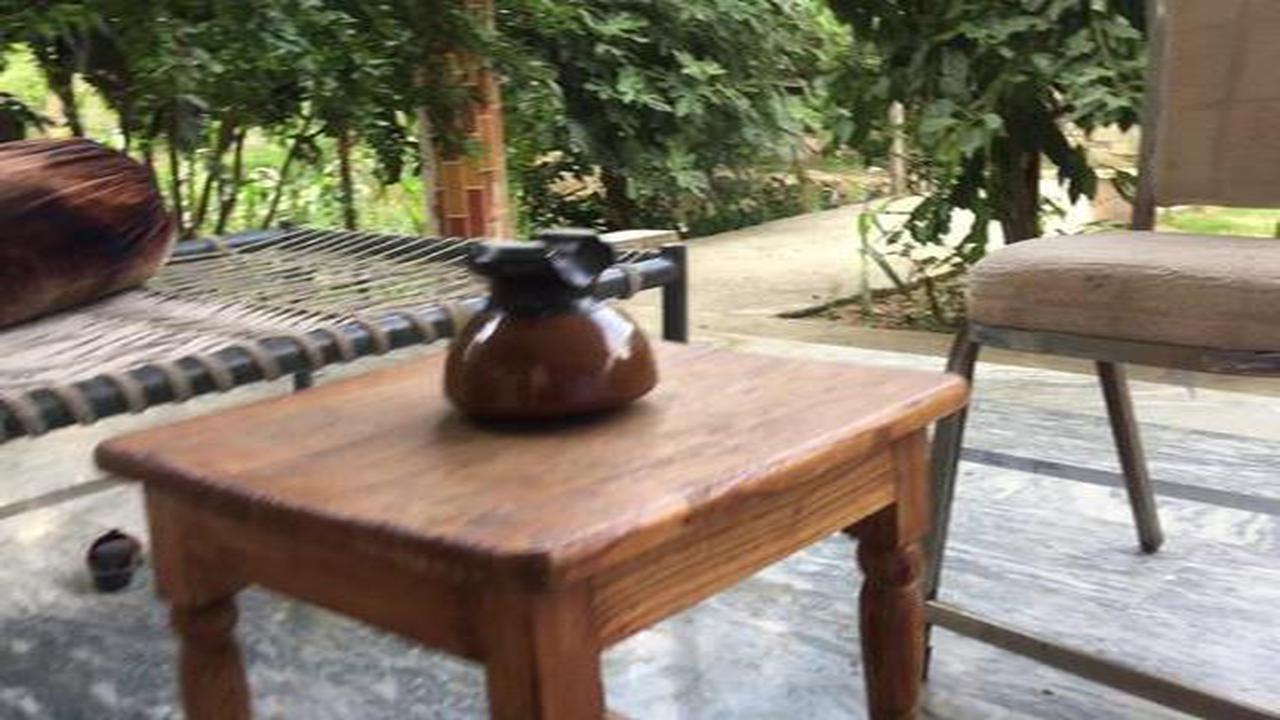insulator_pin: (428, 222, 668, 433)
